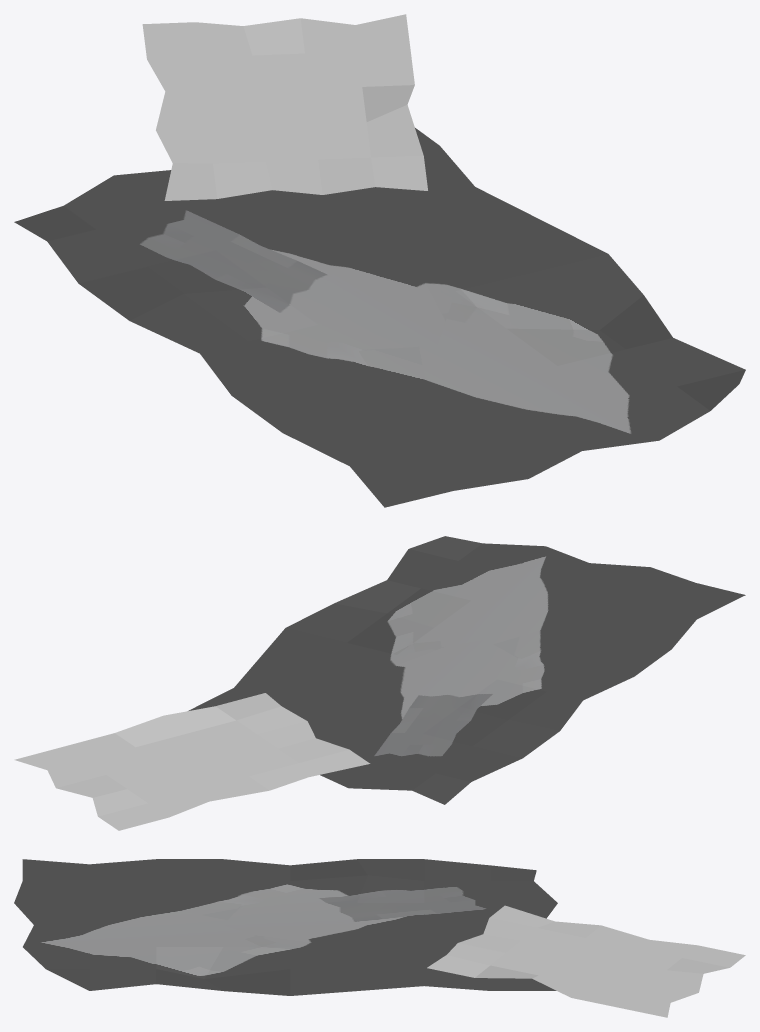
Rendered from tegami.fbx.
3 views of the same model, one above another, from view 1: azimuth 30°, elevation 25°; view 2: azimuth 150°, elevation 25°; view 3: azimuth 270°, elevation 25° (orthographic). The views are drawn at different scales.
Parts seen in each view (by area): view 1: 平面, 平面.003; view 2: 平面, 平面.003; view 3: 平面, 平面.003.
Part boxes in pixels (x1,y1,x2,y2): 平面: (14,128,745,507); 平面.003: (142,14,427,200); 平面: (188,536,745,804); 平面.003: (14,693,370,830); 平面: (14,859,557,995); 平面.003: (427,905,745,1017).
Bounding box in the file's own units: 102 × 5.41 × 191.
